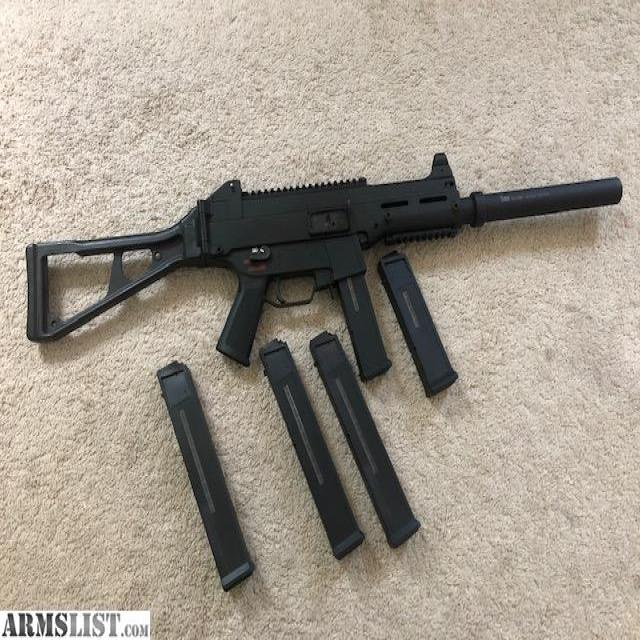SMG: (24, 155, 625, 384)
